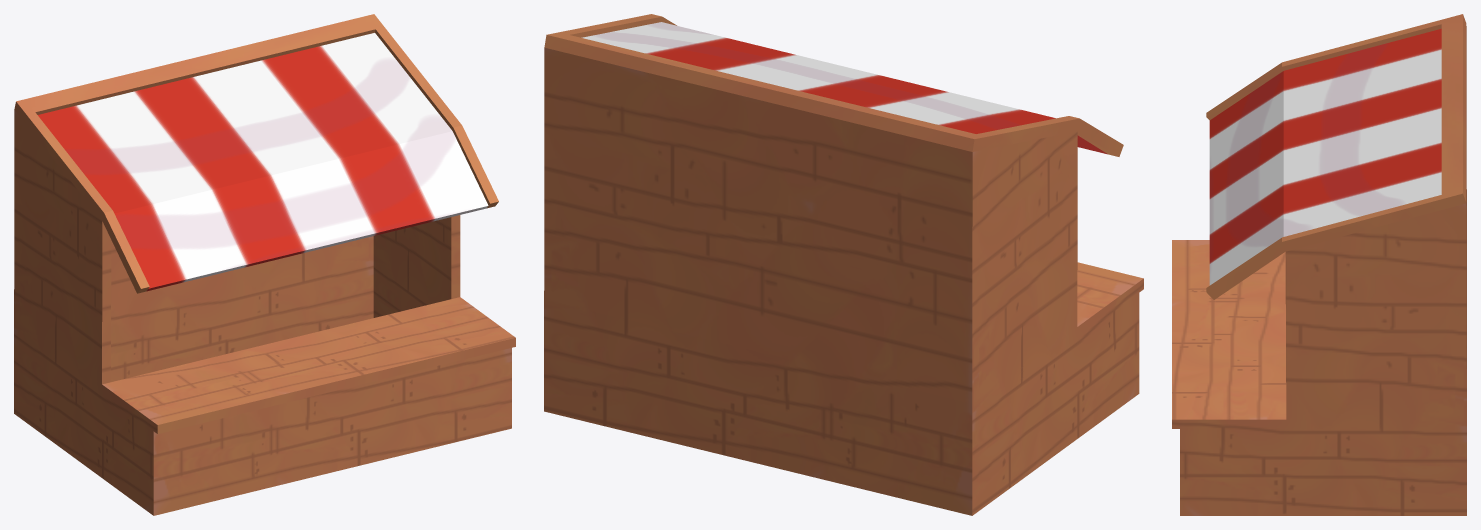
Rendered from market_stall_jess.obj.
3 renders of one model, left to right at view 1: azimuth 30°, elevation 25°; view 2: azimuth 150°, elevation 25°; view 3: azimuth 270°, elevation 25°, orthographic. The views are drawn at different scales.
Visible parts, largest first — view 1: Cube; view 2: Cube; view 3: Cube.
Part boxes in pixels (x1,y1,x2,y2): Cube: (14,14,515,515); Cube: (544,14,1143,515); Cube: (1172,14,1466,515).
Bounding box in the file's own units: 4 × 3.35 × 2.78.
1 material, 1 textured.
